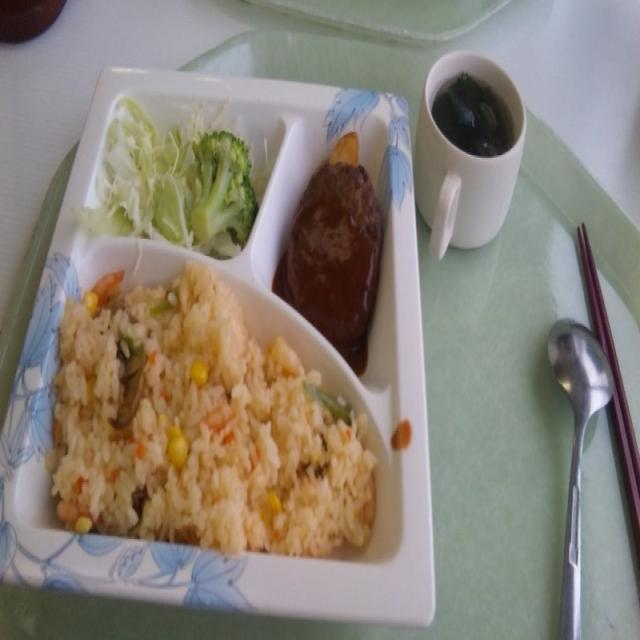Green Salad: (95, 104, 255, 258)
Rice: (58, 297, 330, 558)
